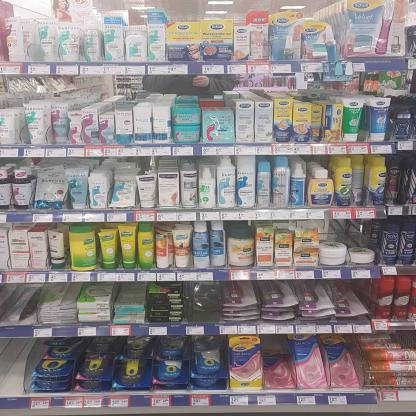Void: (2, 342, 24, 394)
